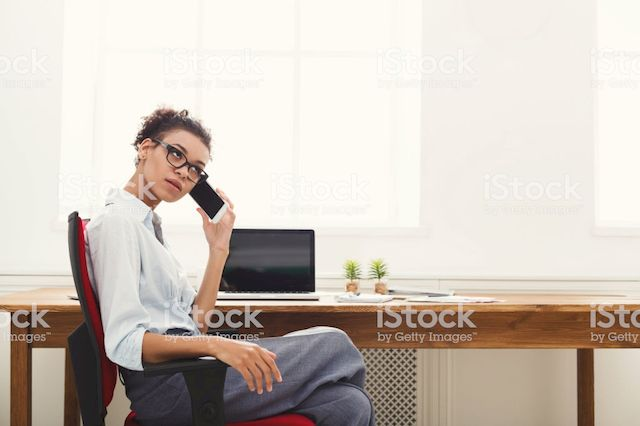phone: (186, 180, 229, 219)
talk: (153, 141, 236, 244)
